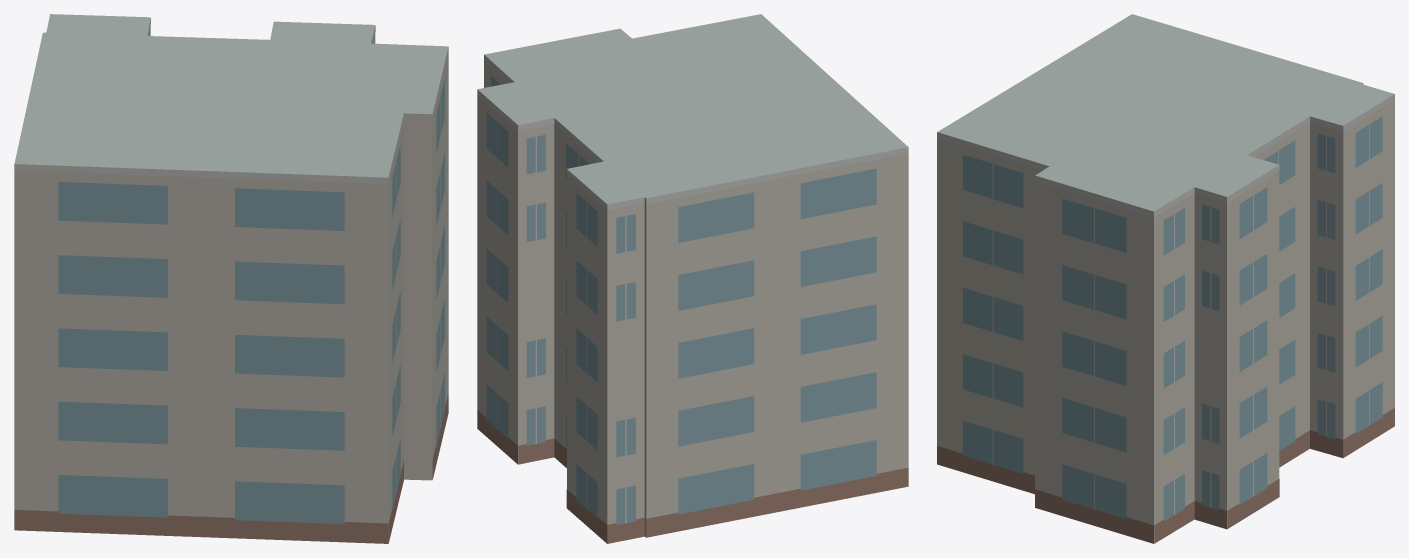
Rendered from survey-upis-32840320.glb.
3 renders of one model, left to right at view 1: azimuth 30°, elevation 25°; view 2: azimuth 150°, elevation 25°; view 3: azimuth 270°, elevation 25°, orthographic. The views are drawn at different scales.
Parts seen in each view (by area): view 1: survey-upis-32840320.tmp; view 2: survey-upis-32840320.tmp; view 3: survey-upis-32840320.tmp.
Boxes of the visible parts, bbox=[...] form: survey-upis-32840320.tmp: bbox=[14, 14, 448, 543]; survey-upis-32840320.tmp: bbox=[477, 14, 908, 543]; survey-upis-32840320.tmp: bbox=[937, 14, 1394, 543].
Bounding box in the file's own units: 17.48 × 13.7 × 17.11.
